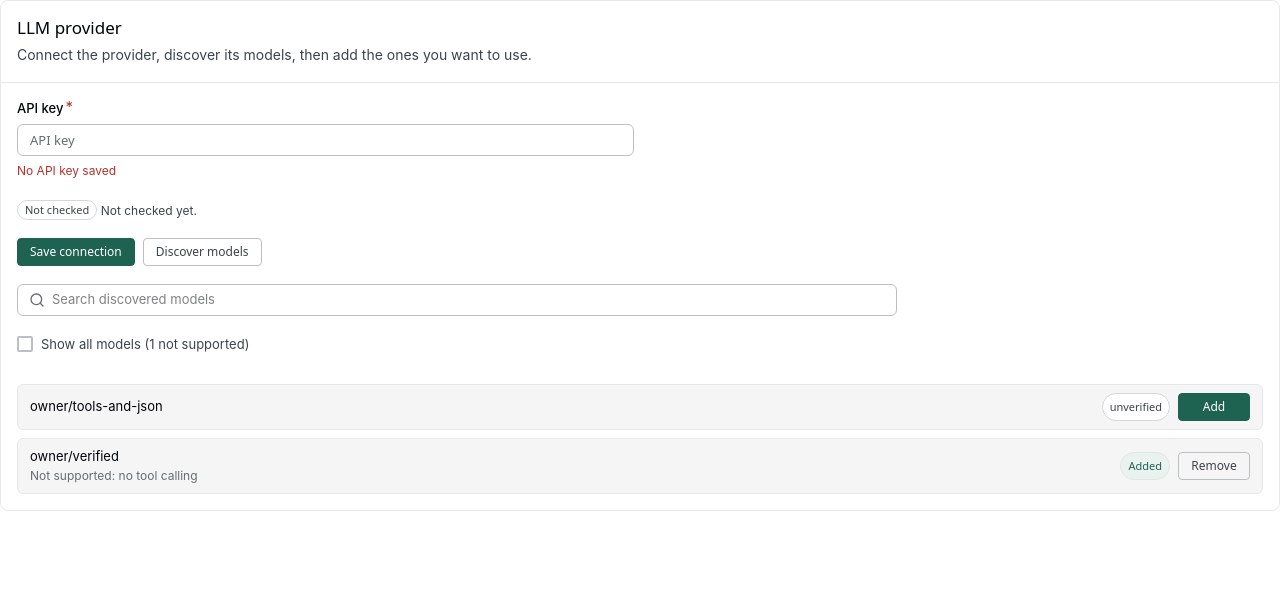
Test: LlmProviderPanel › hides models the provider says can't qualify until Show all models is on
Expected: the text "owner/tools-and-json" is shown, [30,398,163,414]
Expected: the text "owner/verified" is shown, [30,448,119,464]
Click the text "Show all models (1 not supported)" at (145, 344), box [41,334,249,354]
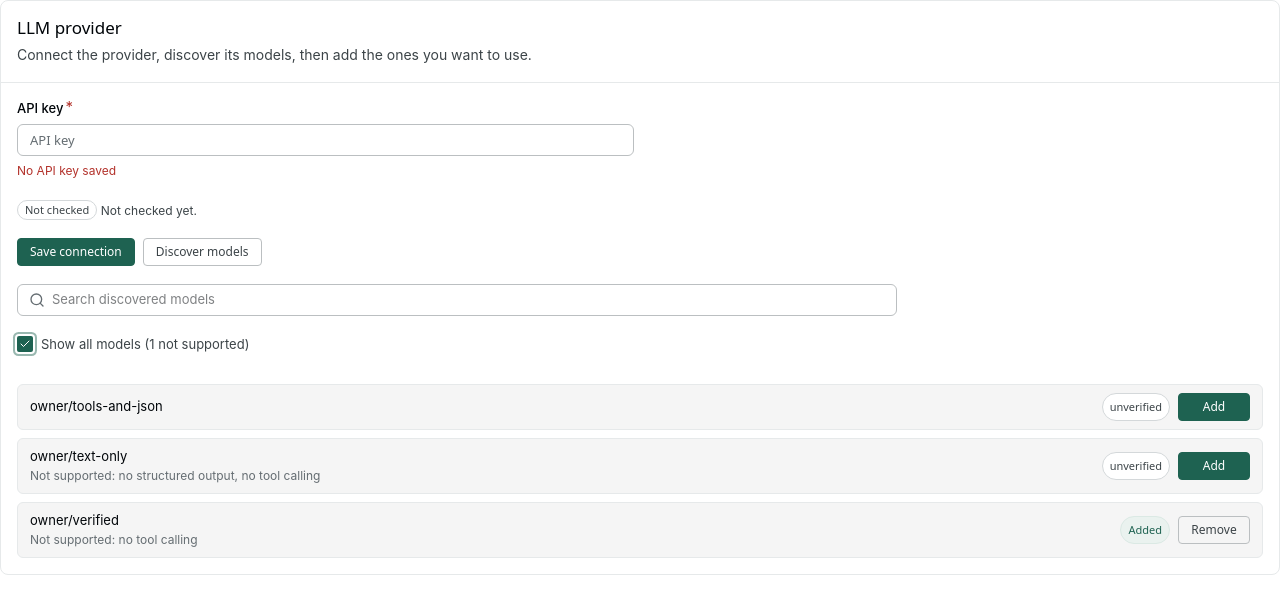
Expected: the text "owner/text-only" is shown, [30,448,127,464]
Expected: the text "Not supported: no structured output, no tool calling" is shown, [30,468,320,483]
Expected: the button with aria-label "Add owner/text-only" is enabled, [1178,452,1250,480]
